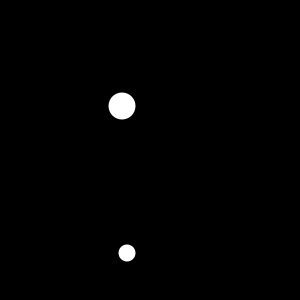rectangle: (109, 92, 136, 120), (118, 245, 136, 262)
